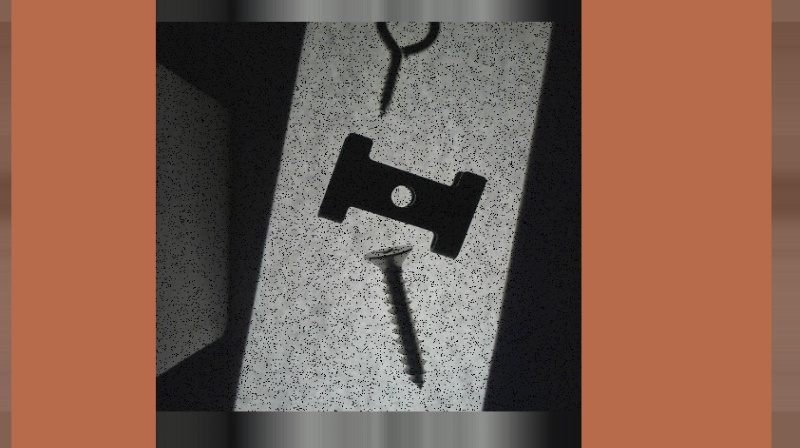O001: (371, 0, 440, 119)
O002: (317, 132, 486, 262)
S001: (362, 240, 426, 389)
